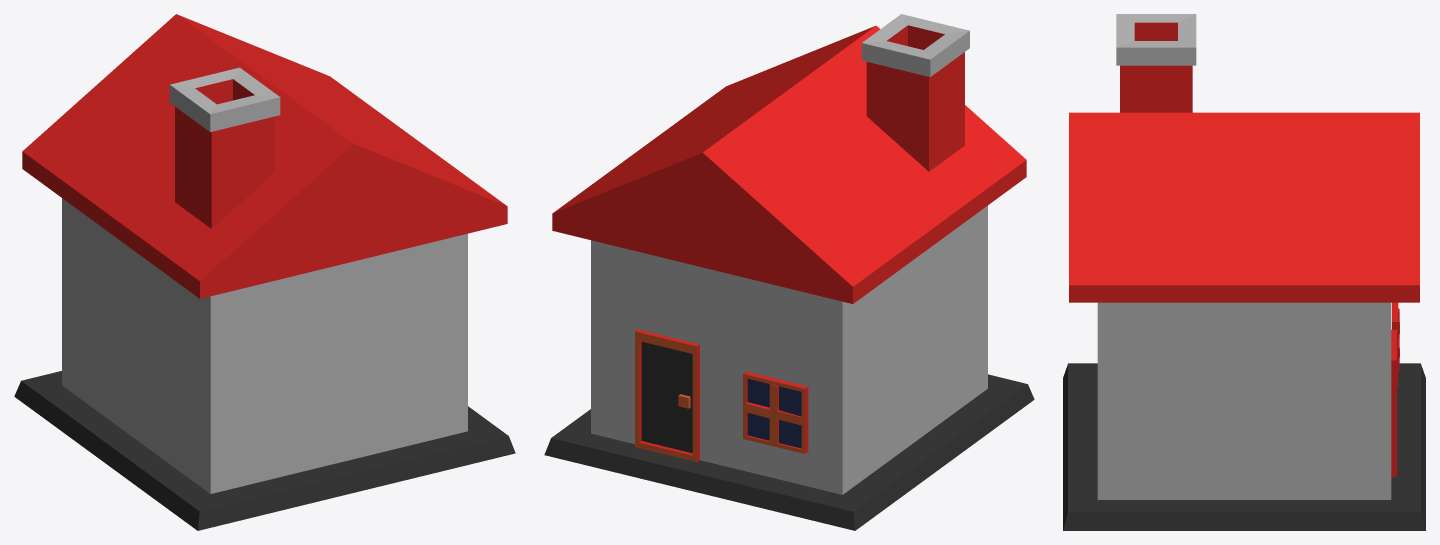
File: House.fbx
3 renders of one model, left to right at view 1: azimuth 30°, elevation 25°; view 2: azimuth 150°, elevation 25°; view 3: azimuth 270°, elevation 25°, orthographic. The views are drawn at different scales.
Visible parts, largest first — view 1: House; view 2: House; view 3: House.
Boxes of the visible parts, x1,y1,x2,y2 form: House: (14,14,515,530); House: (544,14,1034,530); House: (1063,14,1425,530).
Size of the model in its own units: 17.65 by 20.55 by 17.65.
